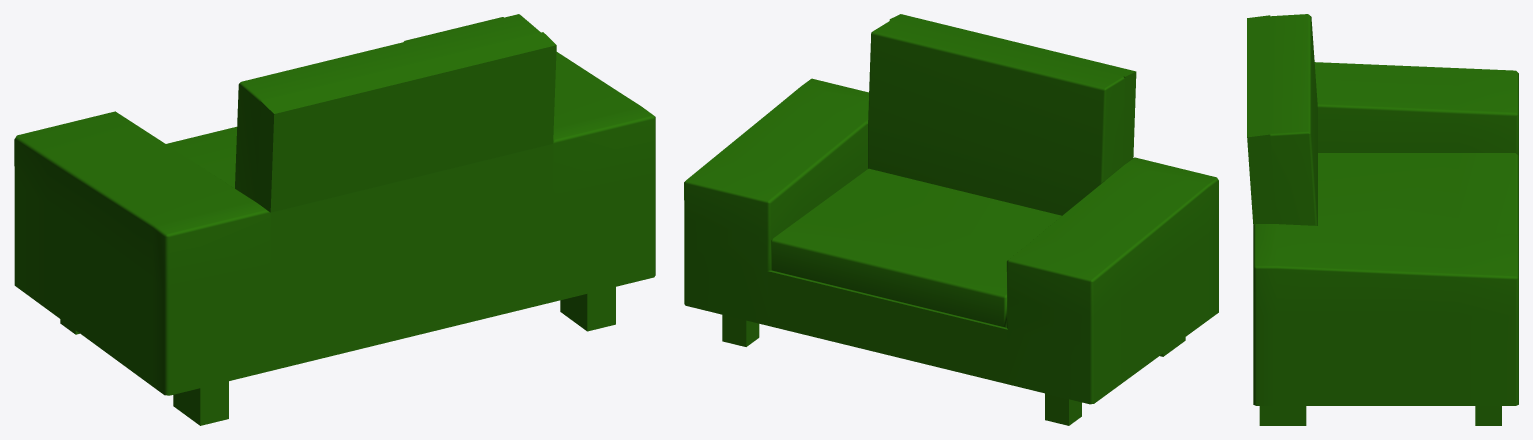
Rendered from sofa2.fbx.
3 renders of one model, left to right at view 1: azimuth 30°, elevation 25°; view 2: azimuth 150°, elevation 25°; view 3: azimuth 270°, elevation 25°, orthographic. The views are drawn at different scales.
Visible parts, largest first — view 1: polySurface34; view 2: polySurface34; view 3: polySurface34.
Part boxes in pixels (left/top/right/bottom): polySurface34: left=14, top=14, right=655, bottom=425; polySurface34: left=684, top=14, right=1218, bottom=425; polySurface34: left=1247, top=14, right=1518, bottom=425.
Bounding box in the file's own units: 4.61 × 2.75 × 2.55.
